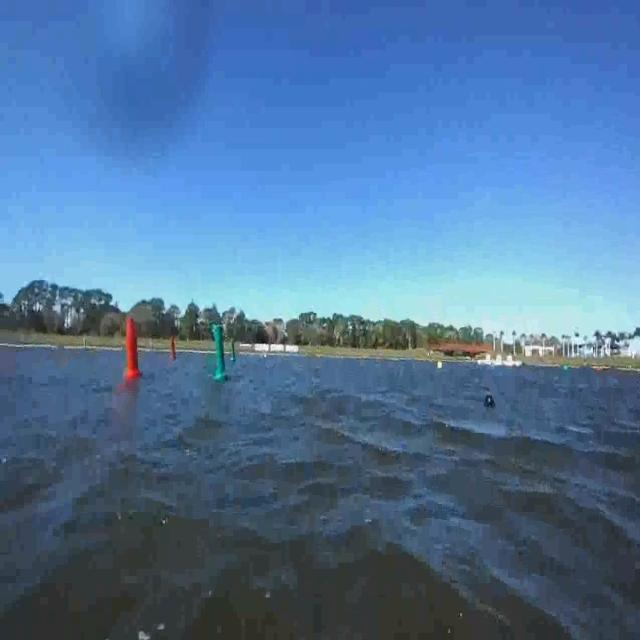black-buoy: (484, 391, 496, 409)
green-column-buoy: (212, 325, 229, 381), (229, 341, 236, 364)
red-column-buoy: (125, 317, 143, 377), (170, 337, 178, 361)
yellow-buoy: (436, 358, 443, 371)
